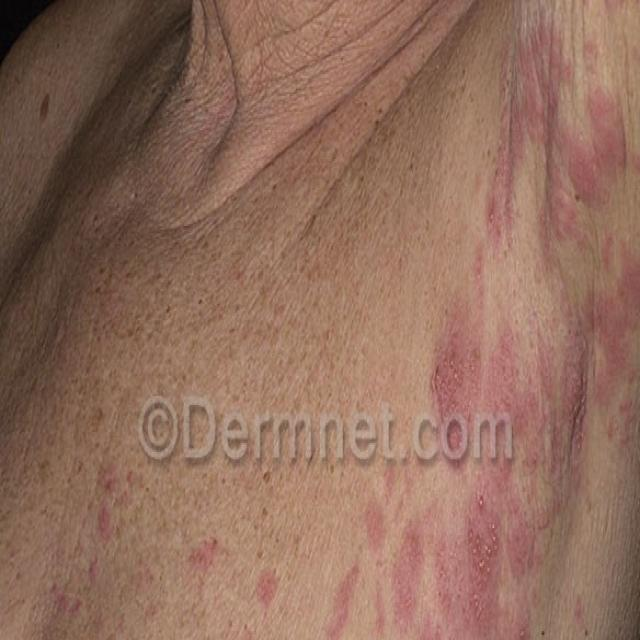Viral Infections: (323, 434, 576, 640), (407, 244, 640, 423), (490, 18, 640, 250), (65, 387, 168, 640), (187, 524, 308, 640)
